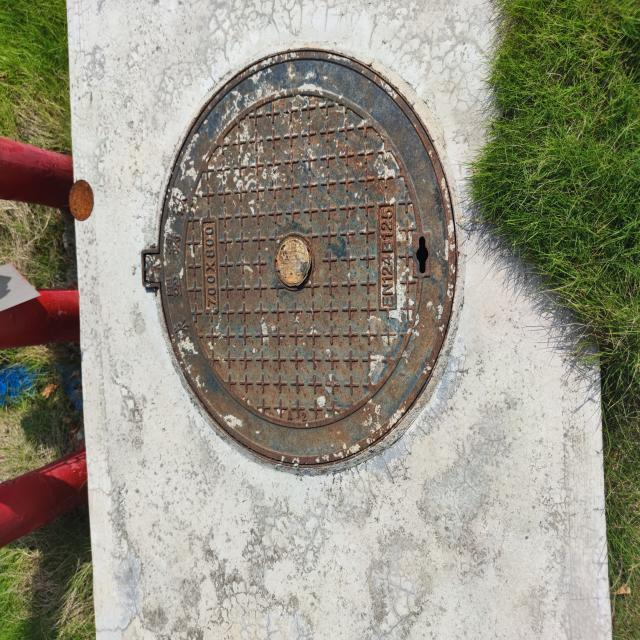Good: (140, 44, 468, 480)
